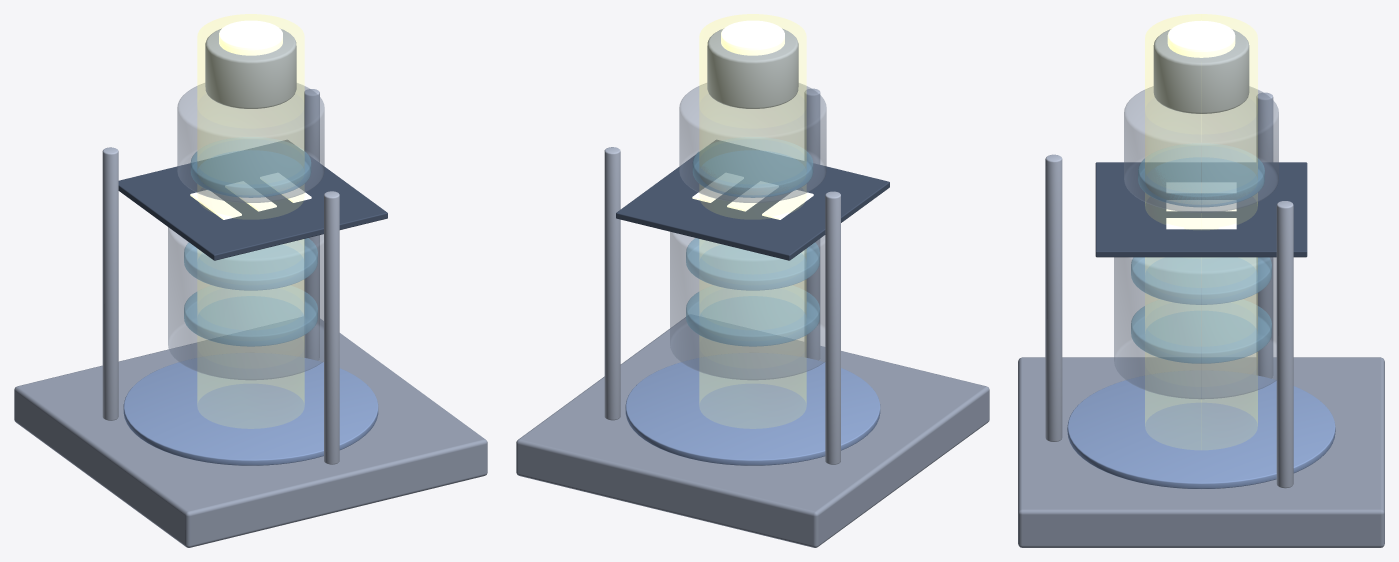
File: litho-column.glb
3 views of the same model, side by side, from view 1: azimuth 30°, elevation 25°; view 2: azimuth 150°, elevation 25°; view 3: azimuth 270°, elevation 25° (orthographic). The views are drawn at different scales.
Parts seen in each view (by area): view 1: stage_base, beam, wafer, barrel, mask, illum, lens1, lens3, source, lens2, post.001, post.002 (+5 smaller); view 2: stage_base, beam, wafer, barrel, mask, illum, lens1, lens3, source, lens2, post, post.001 (+5 smaller); view 3: stage_base, beam, wafer, barrel, mask, illum, lens1, lens3, source, lens2, post.002, post (+5 smaller).
Boxes of the visible parts, x1=… form: stage_base: x1=14, y1=317, x2=487, y2=547; beam: x1=197, y1=14, x2=304, y2=428; wafer: x1=123, y1=353, x2=378, y2=465; barrel: x1=168, y1=227, x2=323, y2=380; mask: x1=118, y1=140, x2=387, y2=260; illum: x1=177, y1=83, x2=324, y2=202; lens1: x1=184, y1=286, x2=317, y2=346; lens3: x1=190, y1=137, x2=311, y2=197; source: x1=205, y1=28, x2=296, y2=108; lens2: x1=184, y1=238, x2=317, y2=290; post.001: x1=102, y1=147, x2=118, y2=420; post.002: x1=324, y1=191, x2=339, y2=464; stage_base: x1=516, y1=315, x2=989, y2=547; beam: x1=699, y1=14, x2=806, y2=428; wafer: x1=625, y1=353, x2=880, y2=465; barrel: x1=670, y1=232, x2=825, y2=380; mask: x1=616, y1=140, x2=889, y2=260; illum: x1=679, y1=83, x2=826, y2=202; lens1: x1=686, y1=286, x2=819, y2=346; lens3: x1=692, y1=137, x2=813, y2=197; source: x1=707, y1=28, x2=798, y2=108; lens2: x1=686, y1=238, x2=819, y2=290; post: x1=604, y1=147, x2=620, y2=420; post.001: x1=825, y1=191, x2=840, y2=464; stage_base: x1=1018, y1=357, x2=1384, y2=547; beam: x1=1145, y1=14, x2=1257, y2=449; wafer: x1=1067, y1=370, x2=1335, y2=488; barrel: x1=1114, y1=257, x2=1276, y2=399; mask: x1=1095, y1=162, x2=1307, y2=257; illum: x1=1124, y1=86, x2=1278, y2=212; lens1: x1=1131, y1=300, x2=1271, y2=363; lens3: x1=1138, y1=144, x2=1264, y2=207; source: x1=1153, y1=29, x2=1249, y2=113; lens2: x1=1131, y1=257, x2=1271, y2=304; post.002: x1=1045, y1=154, x2=1062, y2=441; post: x1=1276, y1=201, x2=1293, y2=488.
Size of the model in its own units: 2.6 by 3.42 by 2.6.
